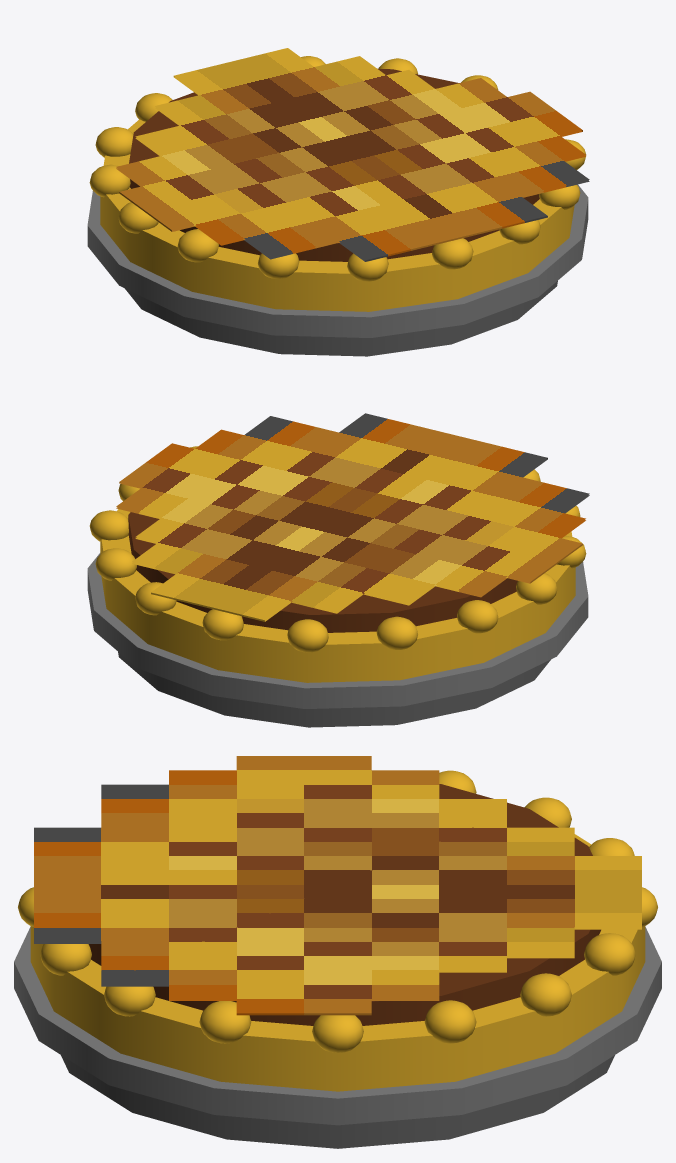
Rendered from CMU3DBakedPieMeat.glb.
3 renders of one model, top to bottom at view 1: azimuth 30°, elevation 25°; view 2: azimuth 150°, elevation 25°; view 3: azimuth 270°, elevation 25°, orthographic. The views are drawn at different scales.
Visible parts, largest first — view 1: original pastry lattice and filling, solid pastry shell, rolled pan lip, metal pie pan, baked filling, crimped crust edge 10, crimped crust edge 13, crimped crust edge 8, crimped crust edge 7, crimped crust edge 12, crimped crust edge 11, crimped crust edge 9 (+3 smaller); view 2: original pastry lattice and filling, solid pastry shell, rolled pan lip, metal pie pan, baked filling, crimped crust edge 6, crimped crust edge 7, crimped crust edge 8, crimped crust edge 3, crimped crust edge 2, crimped crust edge 5, crimped crust edge 9 (+1 smaller); view 3: original pastry lattice and filling, solid pastry shell, rolled pan lip, metal pie pan, baked filling, crimped crust edge 2, crimped crust edge 3, crimped crust edge 4, crimped crust edge 16, crimped crust edge 1, crimped crust edge 14, crimped crust edge 15 (+3 smaller).
Part boxes in pixels (x1,y1,x2,y2): original pastry lattice and filling: (116, 48, 589, 261); solid pastry shell: (100, 119, 574, 311); rolled pan lip: (87, 184, 588, 337); metal pie pan: (125, 281, 557, 356); baked filling: (129, 68, 539, 261); crimped crust edge 10: (177, 229, 218, 262); crimped crust edge 13: (432, 238, 473, 269); crimped crust edge 8: (89, 164, 130, 197); crimped crust edge 7: (95, 127, 133, 157); crimped crust edge 12: (347, 253, 388, 281); crimped crust edge 11: (258, 253, 299, 278); crimped crust edge 9: (118, 202, 158, 233); original pastry lattice and filling: (116, 413, 589, 621); solid pastry shell: (100, 509, 575, 682); rolled pan lip: (87, 553, 588, 708); metal pie pan: (118, 652, 550, 727); baked filling: (128, 512, 517, 632); crimped crust edge 6: (287, 619, 328, 652); crimped crust edge 7: (376, 616, 417, 649); crimped crust edge 8: (457, 600, 498, 633); crimped crust edge 3: (95, 548, 136, 580); crimped crust edge 2: (89, 510, 128, 541); crimped crust edge 5: (202, 609, 243, 640); crimped crust edge 9: (516, 573, 557, 604); original pastry lattice and filling: (34, 756, 641, 1015); solid pastry shell: (30, 834, 645, 1091); rolled pan lip: (14, 927, 661, 1125); metal pie pan: (61, 1055, 614, 1148); baked filling: (88, 784, 600, 1025); crimped crust edge 2: (424, 1000, 476, 1043); crimped crust edge 3: (520, 973, 571, 1016); crimped crust edge 4: (584, 933, 635, 975); crimped crust edge 16: (199, 1001, 251, 1043); crimped crust edge 1: (312, 1015, 363, 1052); crimped crust edge 14: (40, 944, 91, 975); crimped crust edge 15: (104, 986, 155, 1016).
Bounding box in the file's own units: 0.5488 × 0.132 × 0.5488.
Materials: 5 (1 with a texture image).
